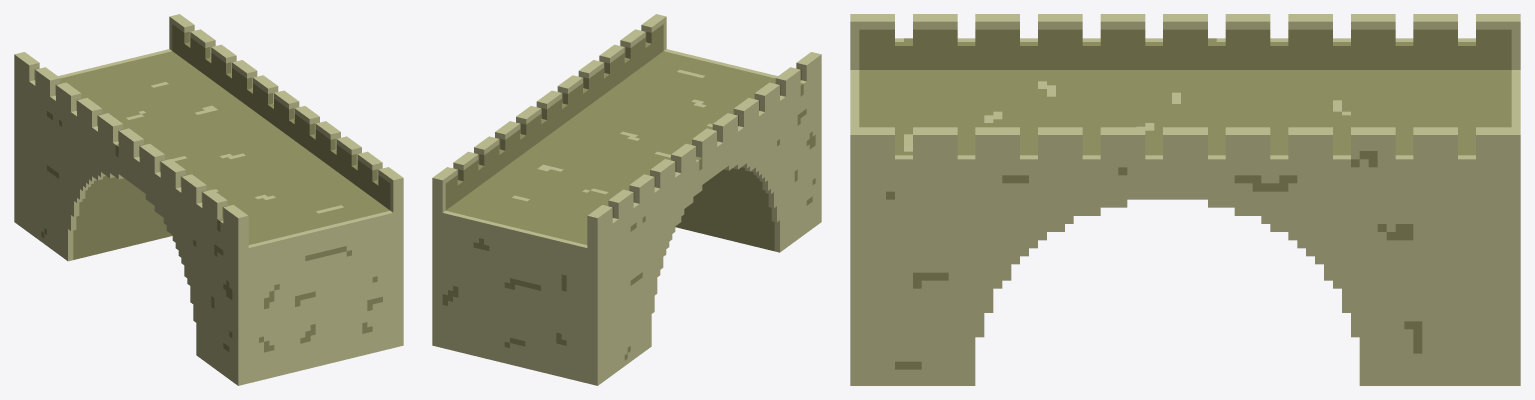
Rendered from bridge.obj.
3 views of the same model, side by side, from view 1: azimuth 30°, elevation 25°; view 2: azimuth 150°, elevation 25°; view 3: azimuth 270°, elevation 25° (orthographic). The views are drawn at different scales.
Size of the model in its own units: 32 by 31 by 75.
